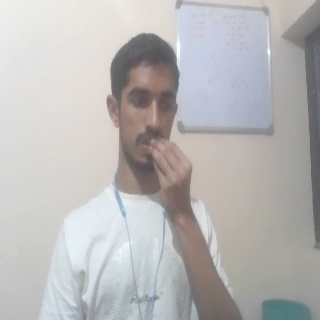Food: (147, 136, 195, 232)
